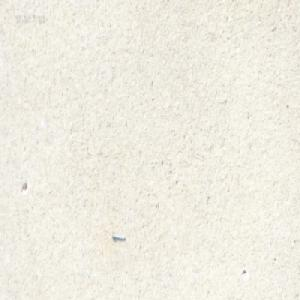Nail: (110, 231, 125, 241)
